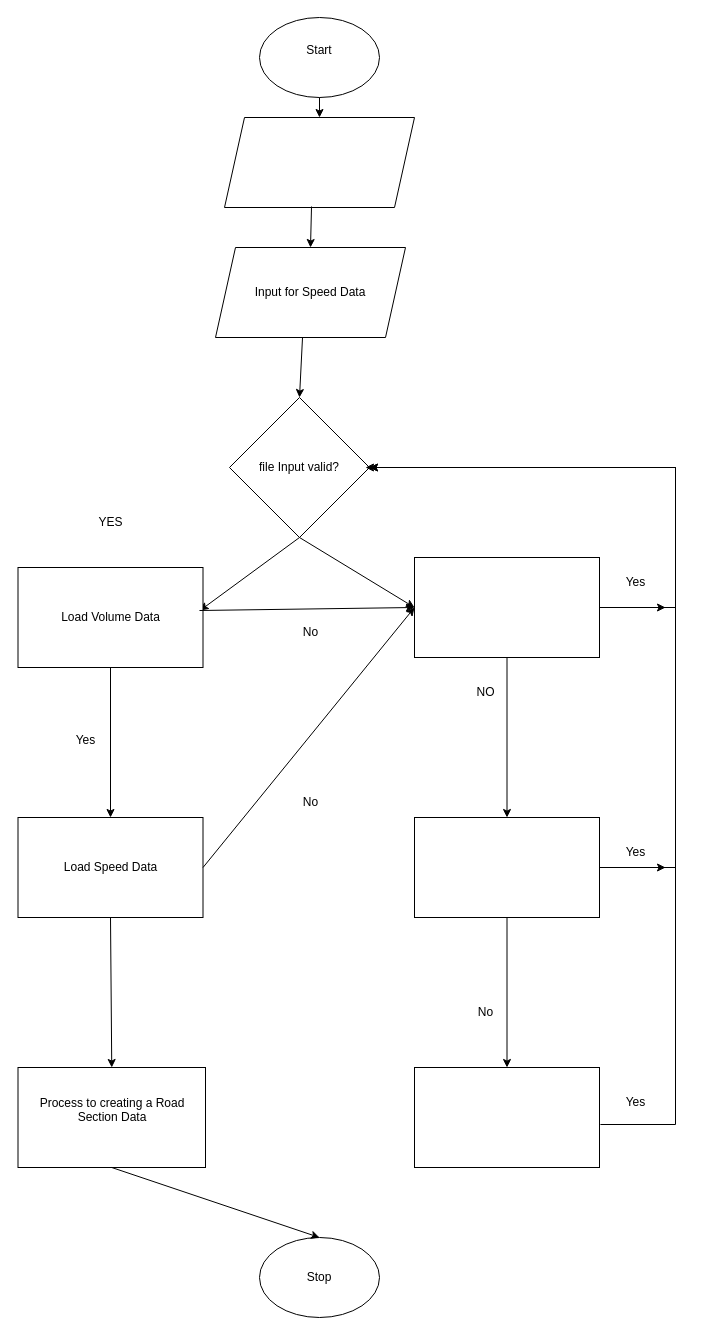
Some shapes in this 701 by 1335 pixel diagram are drawn without their labels. The shapes that lost their labels are listed below. From the top down, each one's centre as x and y in pixels, then its label:
At [319,162]: "Input for Volume Data".
At [507,607]: "FileNotFoundException".
At [507,867]: "ParseException".
At [507,1117]: "IOException".
